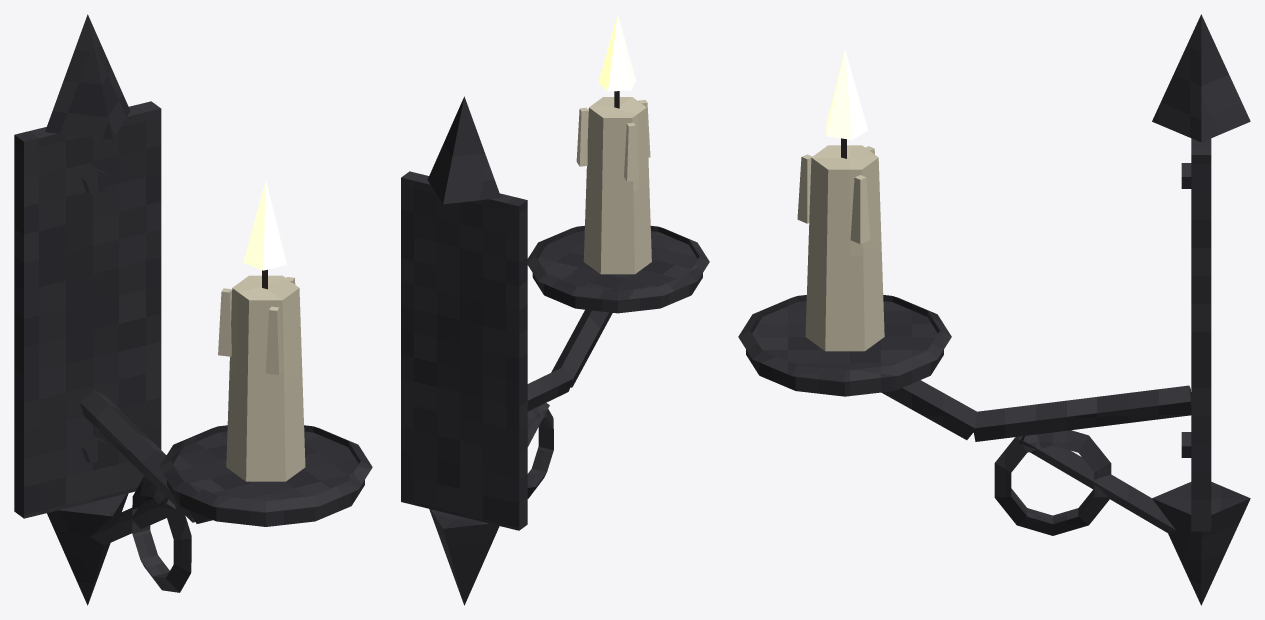
Rendered from wall_sconce.glb.
The picture shows the model from 3 angles, left to right: view 1: azimuth 30°, elevation 25°; view 2: azimuth 150°, elevation 25°; view 3: azimuth 270°, elevation 25°; orthographic projection. The views are drawn at different scales.
Parts seen in each view (by area): view 1: body, lamp_on; view 2: body, lamp_on; view 3: body, lamp_on.
Boxes of the visible parts, bbox=[...] form: body: bbox=[14, 14, 372, 605]; lamp_on: bbox=[243, 180, 286, 270]; body: bbox=[401, 91, 709, 605]; lamp_on: bbox=[598, 14, 635, 91]; body: bbox=[738, 14, 1250, 605]; lamp_on: bbox=[826, 49, 867, 139].
Size of the model in its own units: 0.216 by 0.66 by 0.518.
5 materials, 3 textured.
